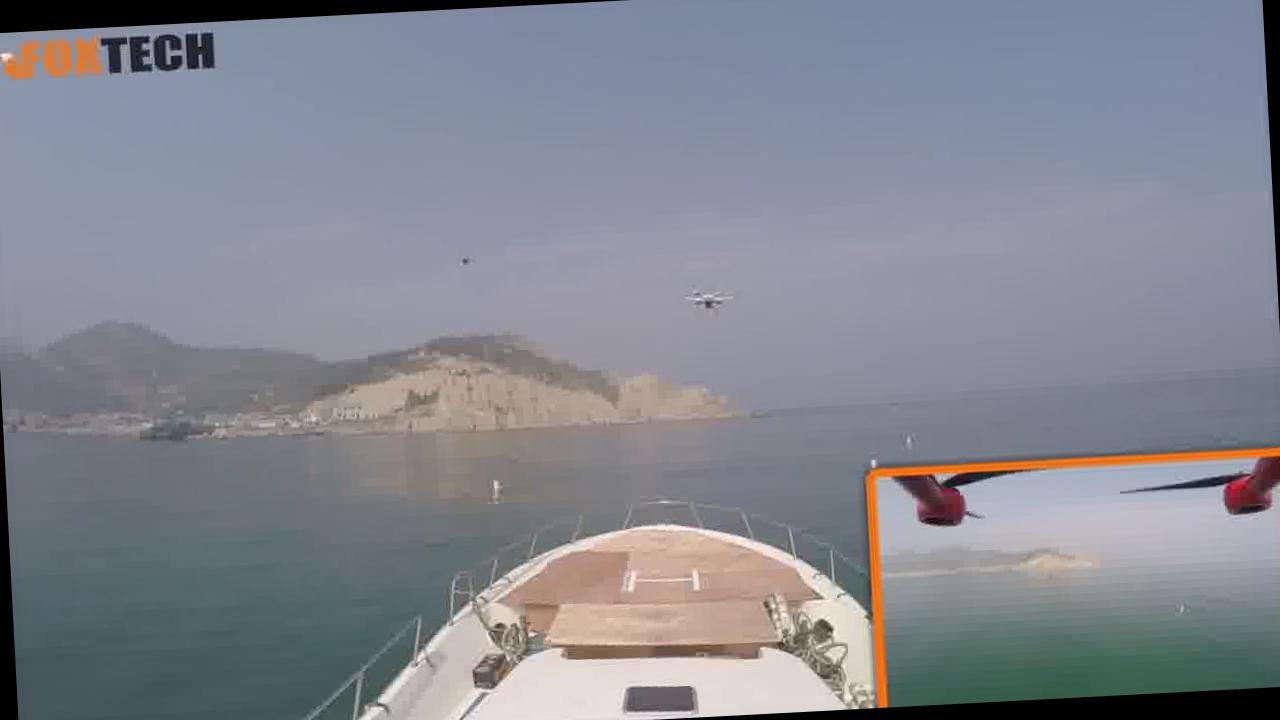drone: (674, 272, 744, 328)
